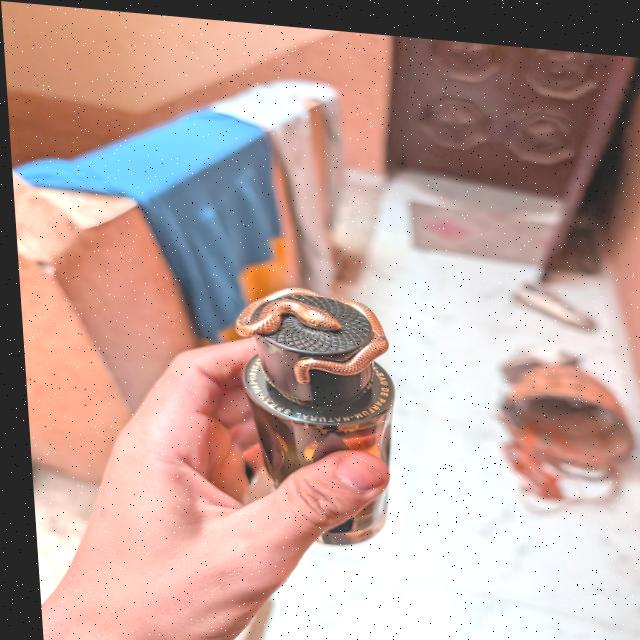Teriaq-Intense: (225, 275, 400, 546), (225, 275, 388, 386)
